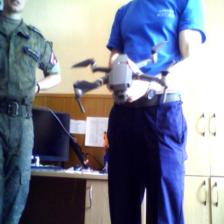drone: (71, 40, 177, 116)
